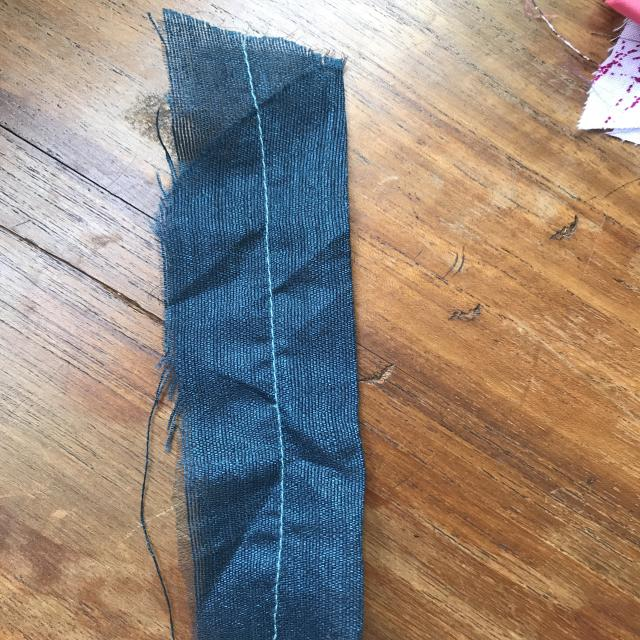good: (250, 186, 287, 419)
